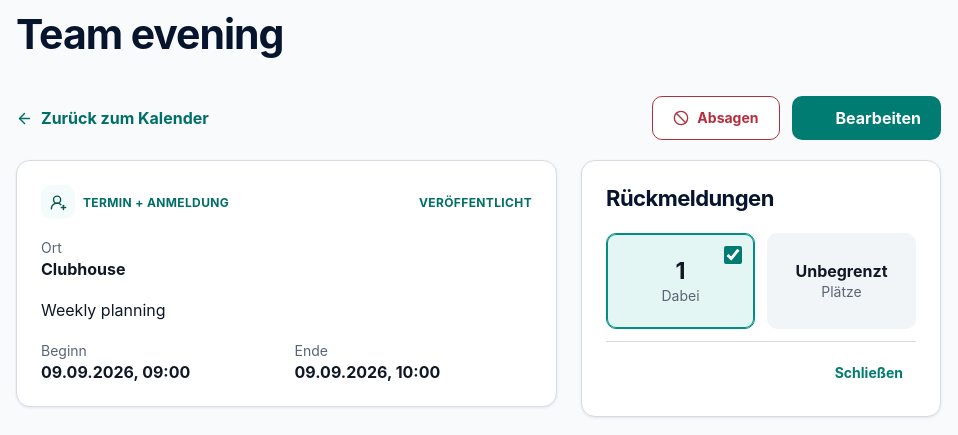
Test: PlanningEventDetailPage › withdraws a registration by selecting its active aggregate tile again
Check: the checkbox labelled "1 Dabei" is checked, box [724,246,742,264]
Click the label "1 Dabei" at (680, 281), box [606,233,755,329]
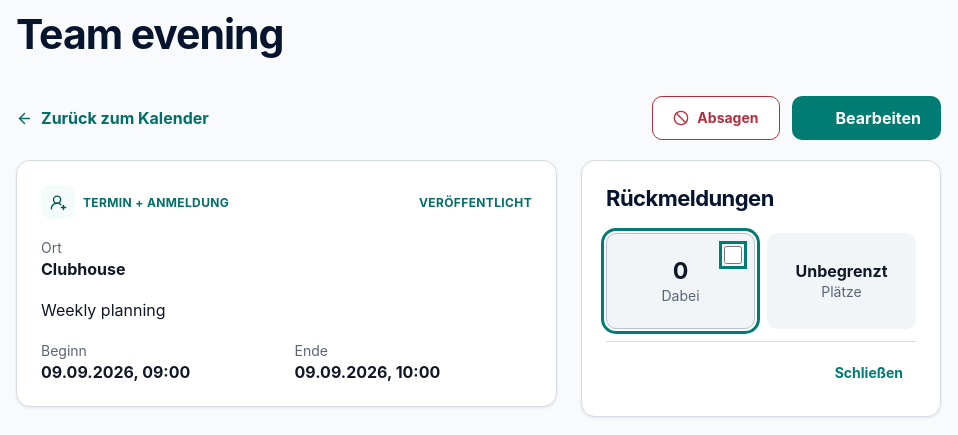
Check: the checkbox labelled "0 Dabei" is not checked, box [724,246,742,264]
Check: the text "0" is shown, box [673,257,688,285]
